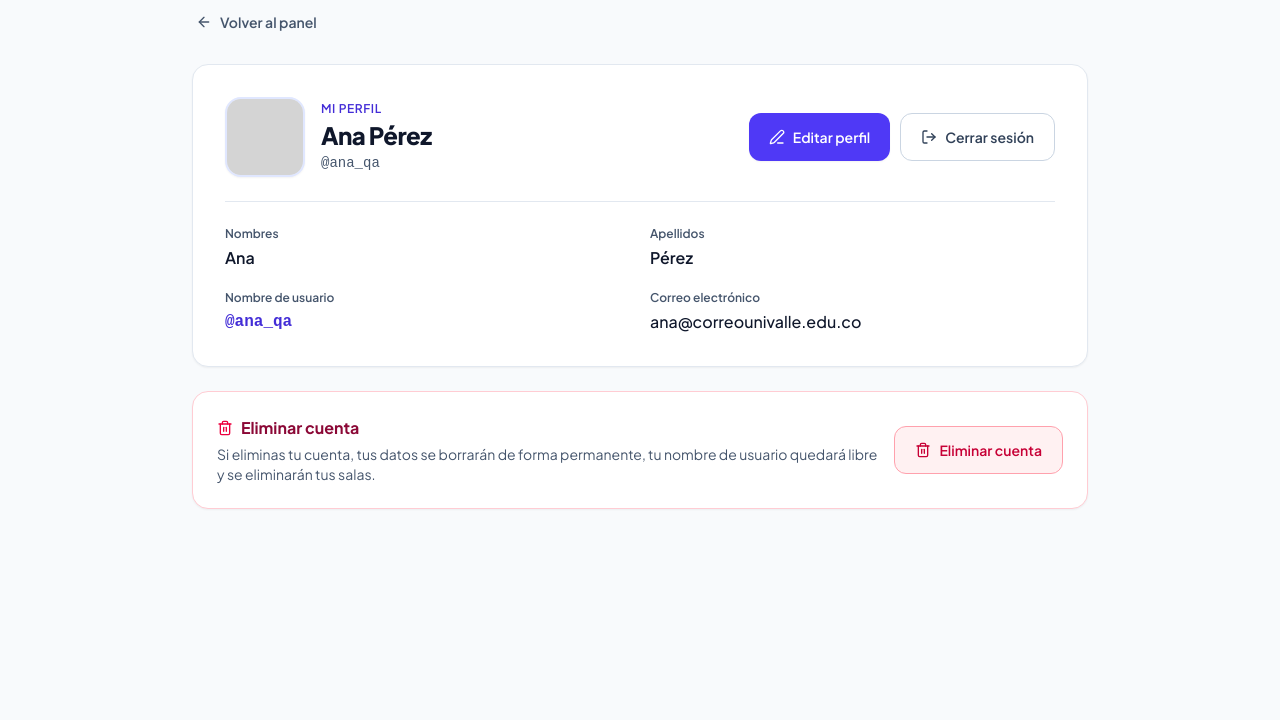
Test case: US-04 | E1 | edición exitosa › envía solo lo modificado, anuncia «Perfil actualizado» y devuelve el foco
Click the button "Editar perfil": [820, 137] box [749,113,890,161]
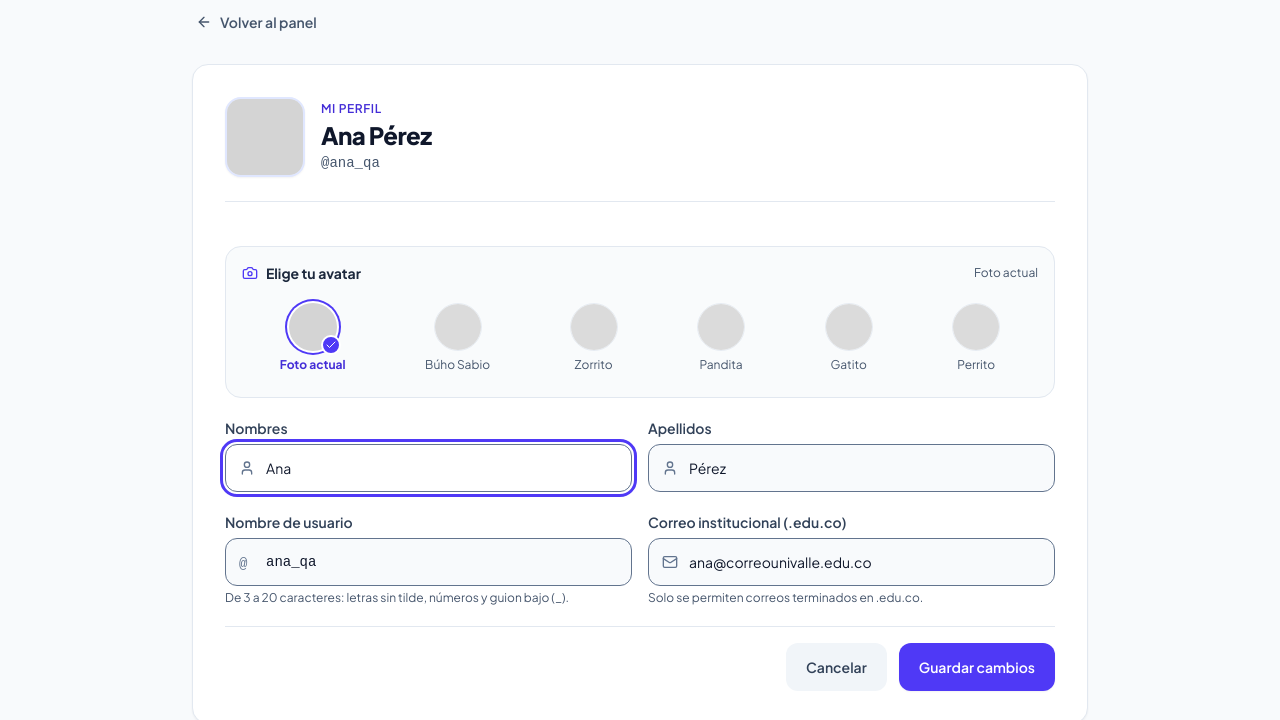
Replace the text in the field labelled "Nombres" with "Ana María": [428, 468] box [225,444,632,492]
Then press Enter
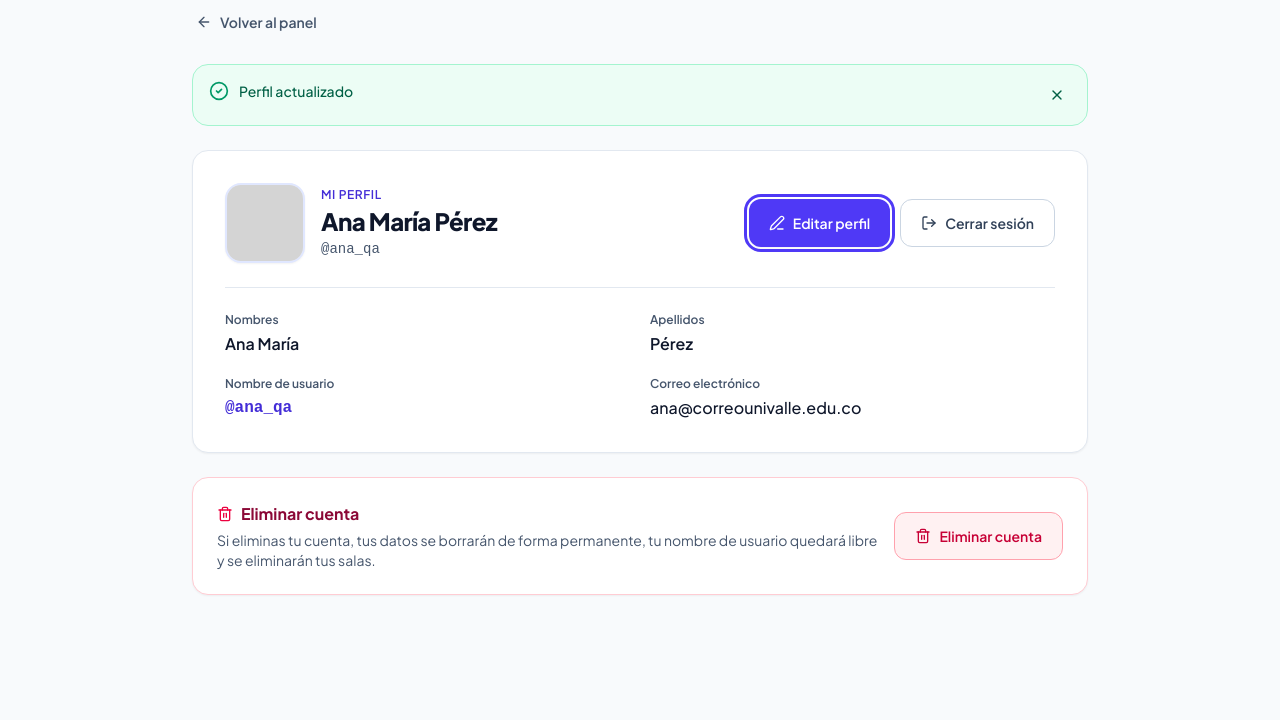
Result: the text "Perfil actualizado" is shown at [239,81,353,101]
Result: the heading "Ana María Pérez" is shown at [321,205,497,237]
